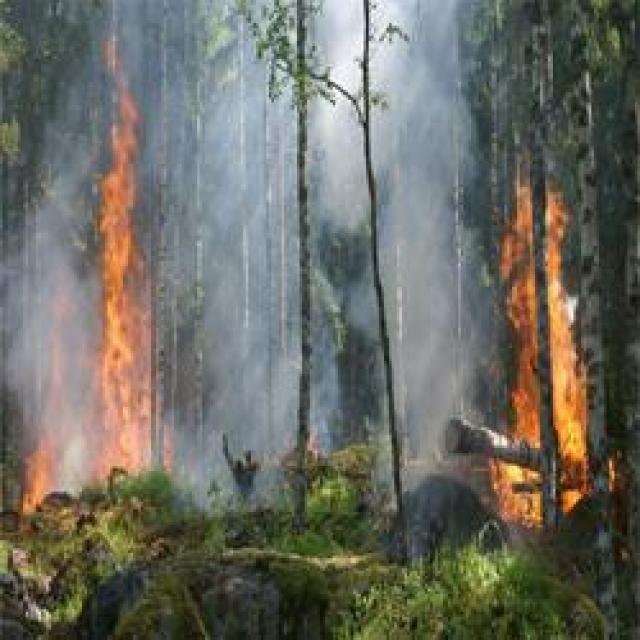fire: (488, 175, 588, 528), (84, 53, 159, 493), (15, 282, 75, 517)
